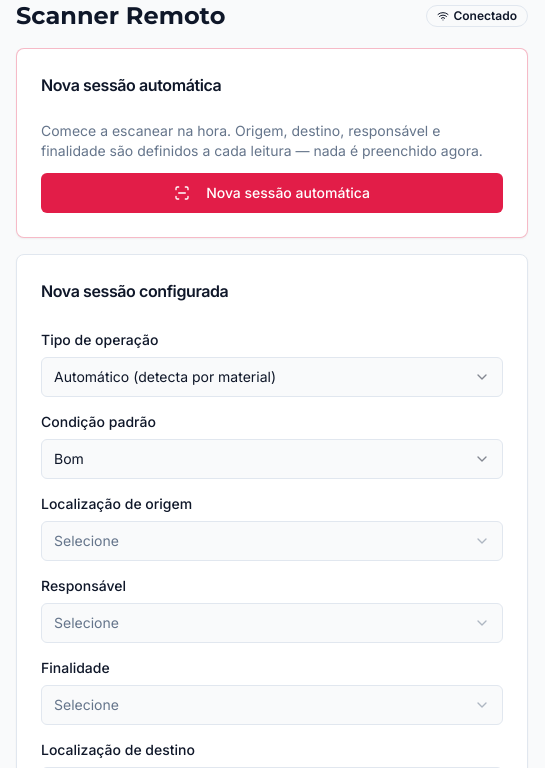
it: ScannerRemoto - E4: leitura read-only na sessão automática › mostra os botões Check-out e Check-in; escolher uma operação abre o formulário sem movimentar
Click the button "Nova sessão automática" at x=272, y=193, box [41,173,503,213]
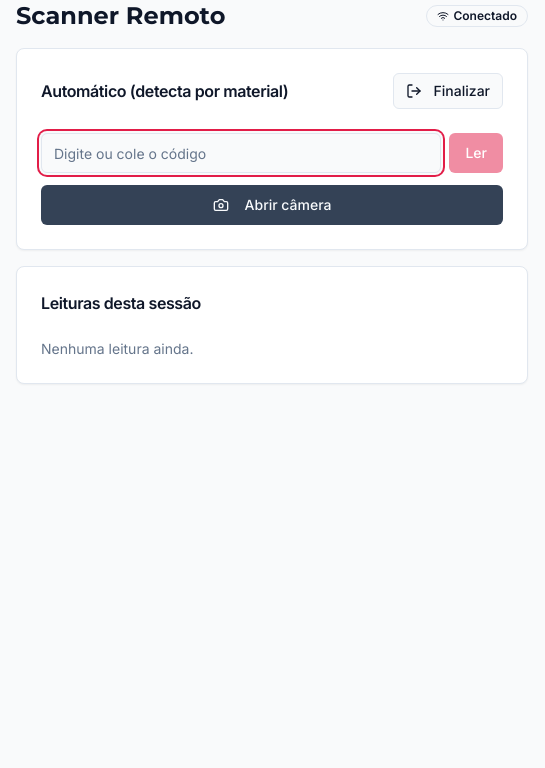
Type "NEO-210-07" into the field with placeholder "Digite ou cole o código" at x=241, y=153, box [41,133,441,173]
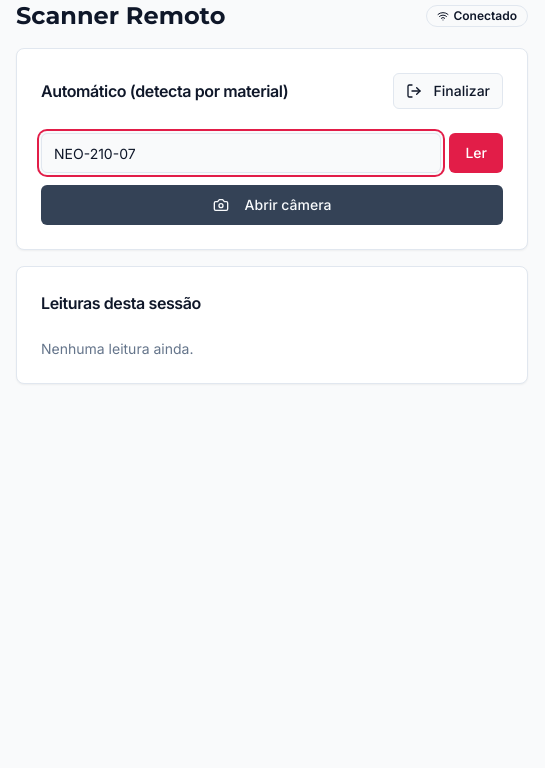
Click the button "Ler" at x=476, y=153, box [449,133,503,173]
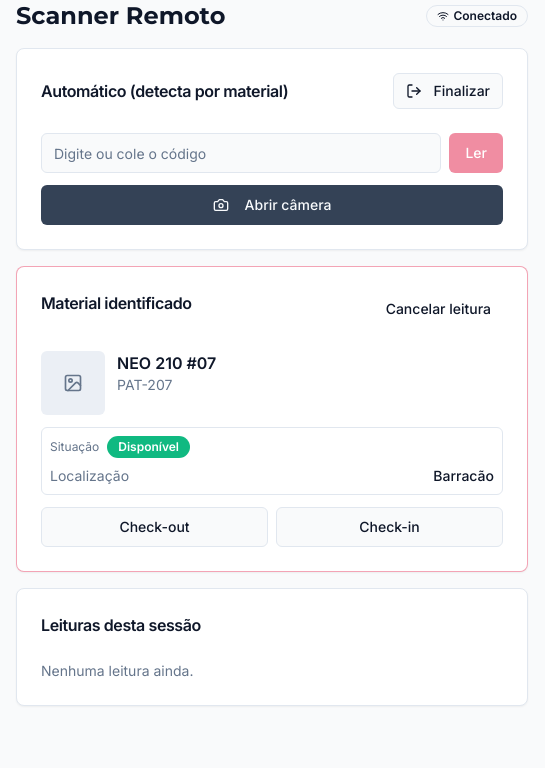
Result: the text "Material identificado" is shown at [41,291,192,315]
Result: the button "Check-out" is shown
Result: the button "Check-in" is shown at [276,507,503,547]
Click the button "Check-out" at x=154, y=527, box [41,507,268,547]
(page scrolled)
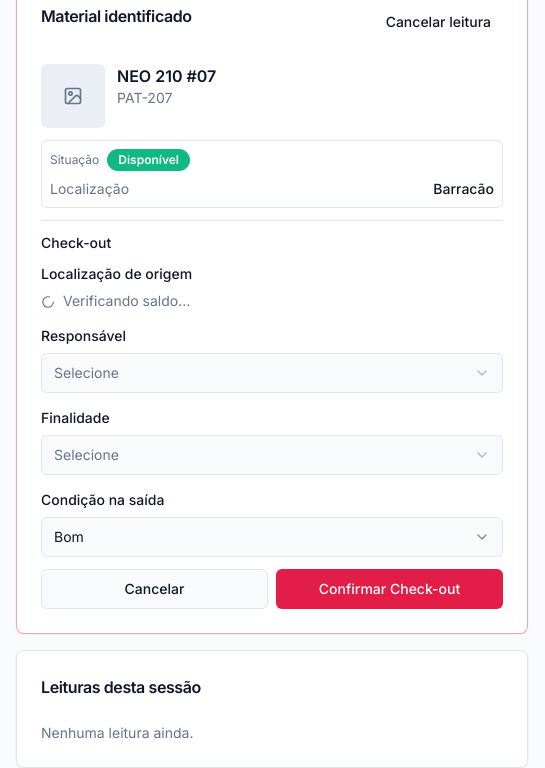
Result: the text "Localização de origem" is shown at [41,265,192,282]
Result: the text "Finalidade" is shown at [41,409,110,426]
Click the button "Cancelar" at x=154, y=589, box [41,569,268,609]
(page scrolled)
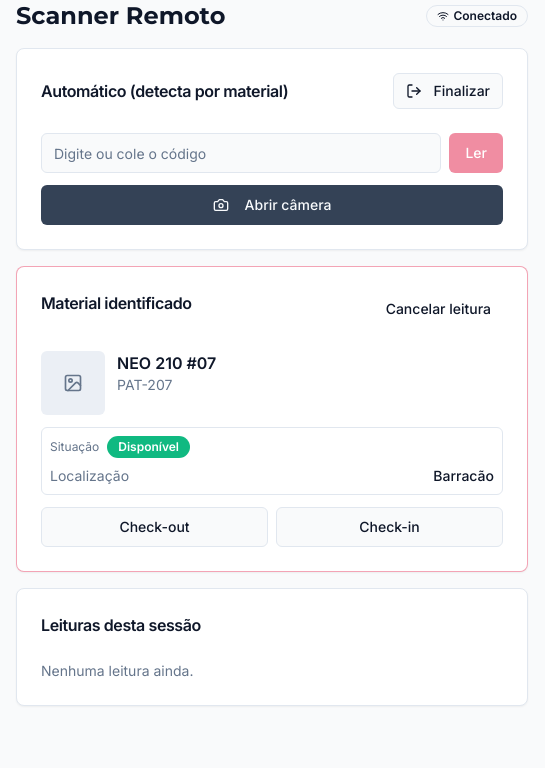
Result: the button "Check-in" is shown at [276,507,503,547]
Result: the text "Localização de origem" is gone
